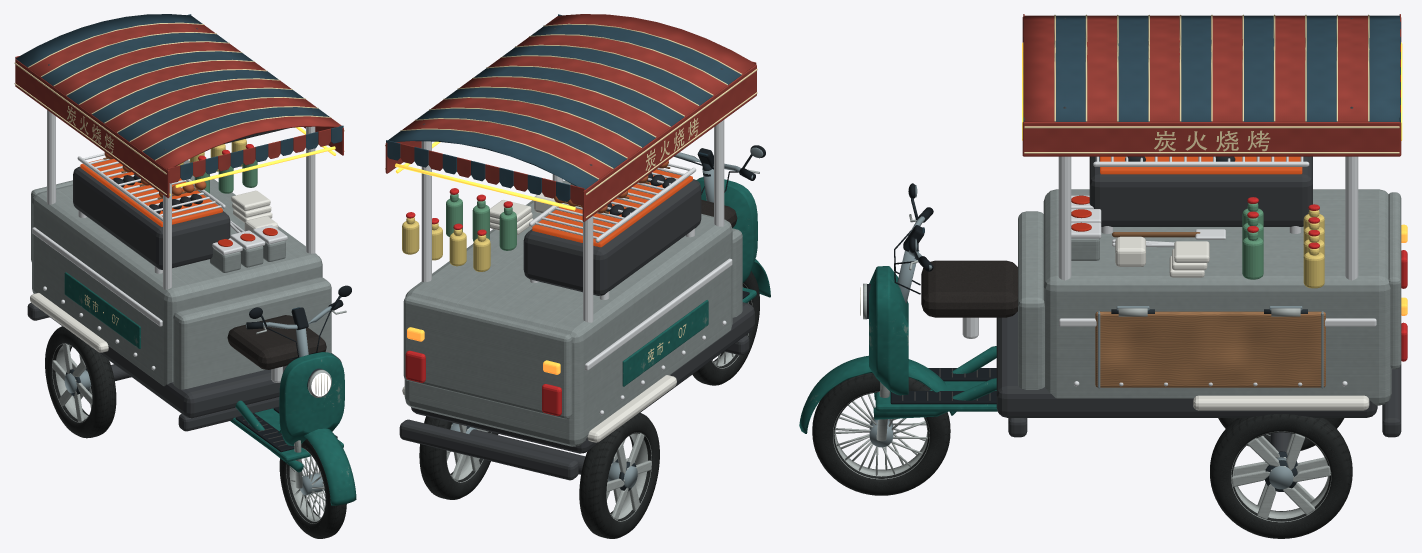
File: 夜市三轮烧烤餐车.glb
The picture shows the model from 3 angles, left to right: view 1: azimuth 30°, elevation 25°; view 2: azimuth 150°, elevation 25°; view 3: azimuth 270°, elevation 25°; orthographic projection. The views are drawn at different scales.
Parts seen in each view (by area): view 1: Body, Canopy, Grill, Wheel.Rear.L, Steering, Wheel.Front, Light.Front; view 2: Body, Canopy, Grill, Wheel.Rear.L, Wheel.Rear.R, Steering, Wheel.Front, Light.Rear; view 3: Body, Canopy, Service.Table, Grill, Wheel.Rear.R, Wheel.Front, Steering, Light.Rear.
Part boxes in pixels (x1,y1,x2,y2): Body: (27,139,344,472); Canopy: (14,14,344,289); Grill: (73,152,230,273); Wheel.Rear.L: (45,326,116,438); Steering: (246,285,356,505); Wheel.Front: (279,439,346,538); Light.Front: (307,368,331,397); Body: (399,177,757,480); Canopy: (385,14,757,322); Grill: (523,160,701,299); Wheel.Rear.L: (579,413,659,538); Wheel.Rear.R: (419,416,498,499); Steering: (674,145,770,297); Wheel.Front: (692,271,759,385); Light.Rear: (405,327,561,415); Body: (869,189,1401,451); Canopy: (1022,14,1402,280); Service.Table: (1095,308,1325,388); Grill: (1089,156,1312,233); Wheel.Rear.R: (1210,414,1352,538); Wheel.Front: (812,373,950,495); Steering: (799,183,956,441); Light.Rear: (1401,224,1407,361).
Bounding box in the file's own units: 1.2 × 2.1 × 2.6.
30 materials, 8 textured.
